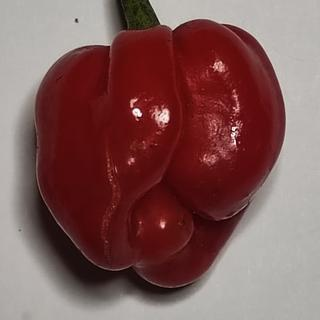Grade-B: (22, 12, 289, 290)
